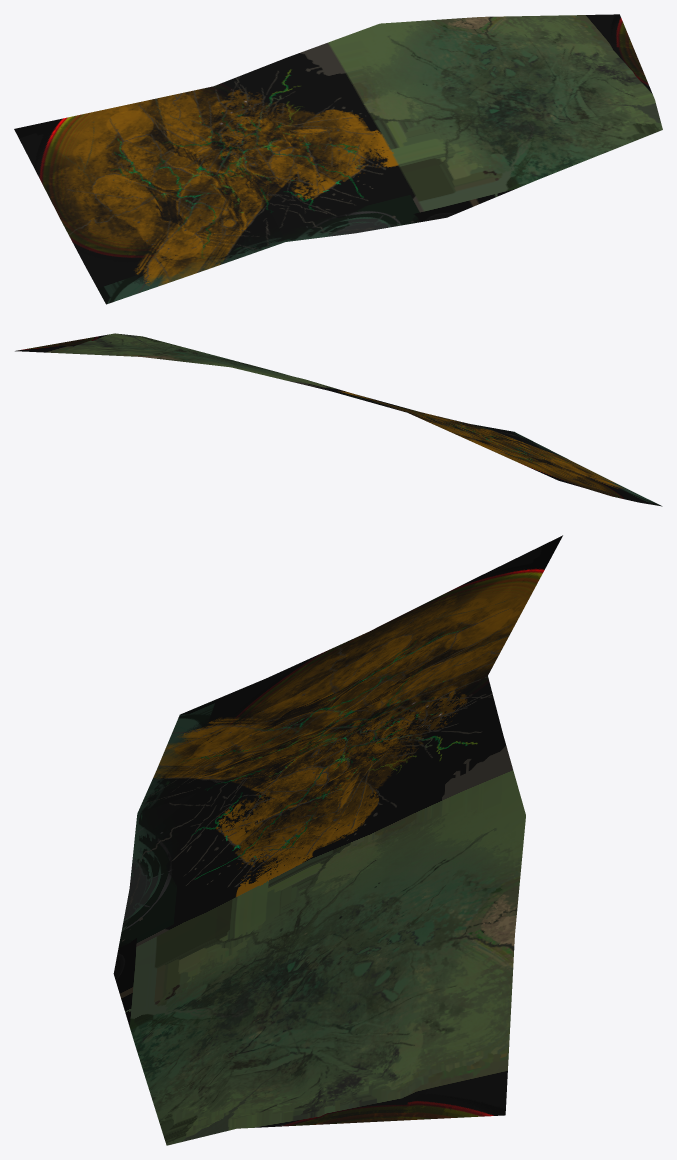
The model's file is DecalsHouseSmall.fbx.
The picture shows the model from 3 angles, top to bottom: view 1: azimuth 30°, elevation 25°; view 2: azimuth 150°, elevation 25°; view 3: azimuth 270°, elevation 25°; orthographic projection. The views are drawn at different scales.
Visible parts, largest first — view 1: DecalsHouseSmall; view 2: DecalsHouseSmall; view 3: DecalsHouseSmall.
Boxes of the visible parts, x1,y1,x2,y2 form: DecalsHouseSmall: (14,14,662,304); DecalsHouseSmall: (15,333,662,506); DecalsHouseSmall: (113,535,562,1145).
Size of the model in its own units: 1012 by 202 by 347.
Materials: 1 (1 with a texture image).
